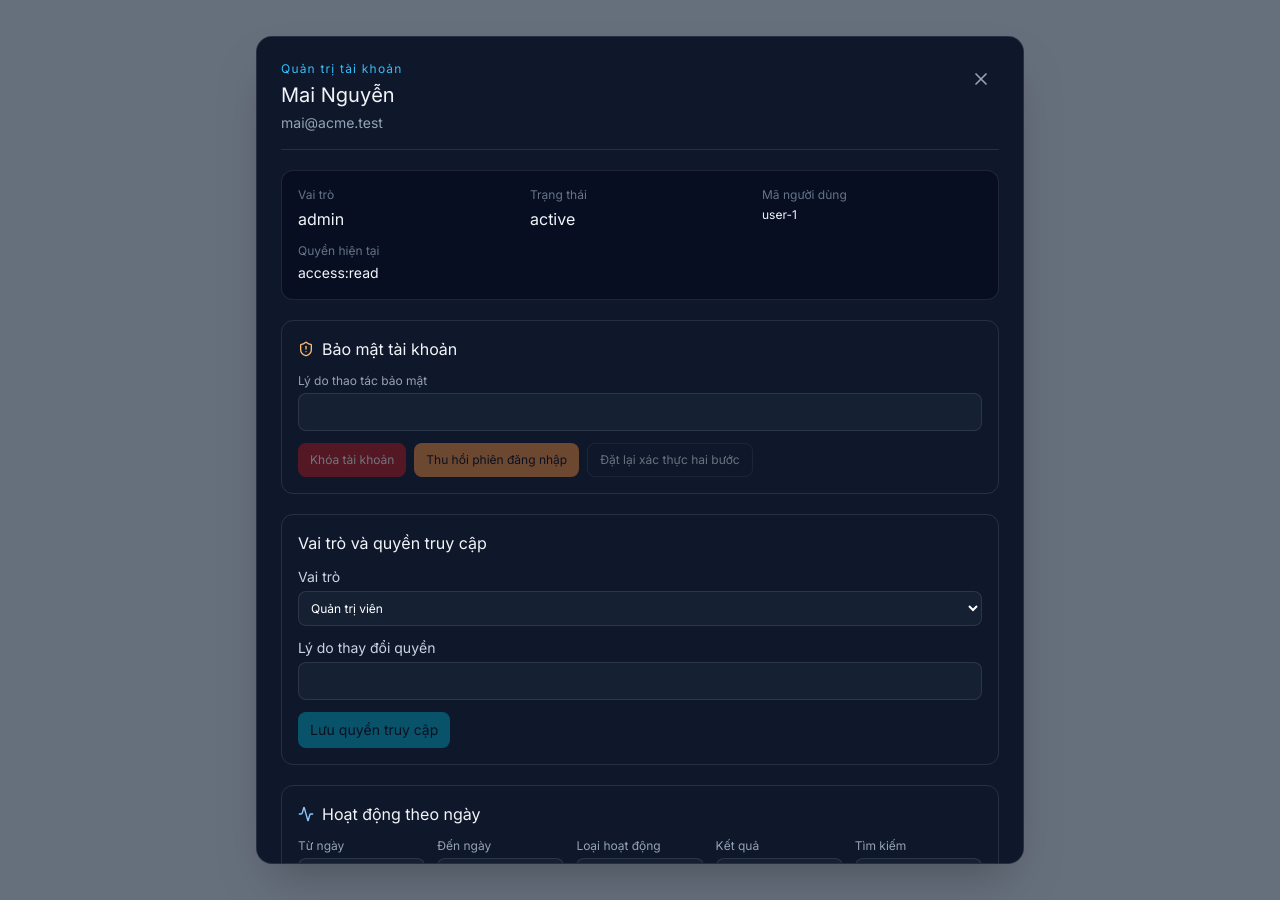
it: UserDetailDialog › locks the account with a reason and refreshes details
Expected: the heading "Mai Nguyễn" is shown, top-left (281, 81), bottom-right (402, 109)
Type "Xử lý sự cố" into the field labelled "Lý do thao tác bảo mật" at (640, 412), box top-left (298, 393), bottom-right (982, 431)
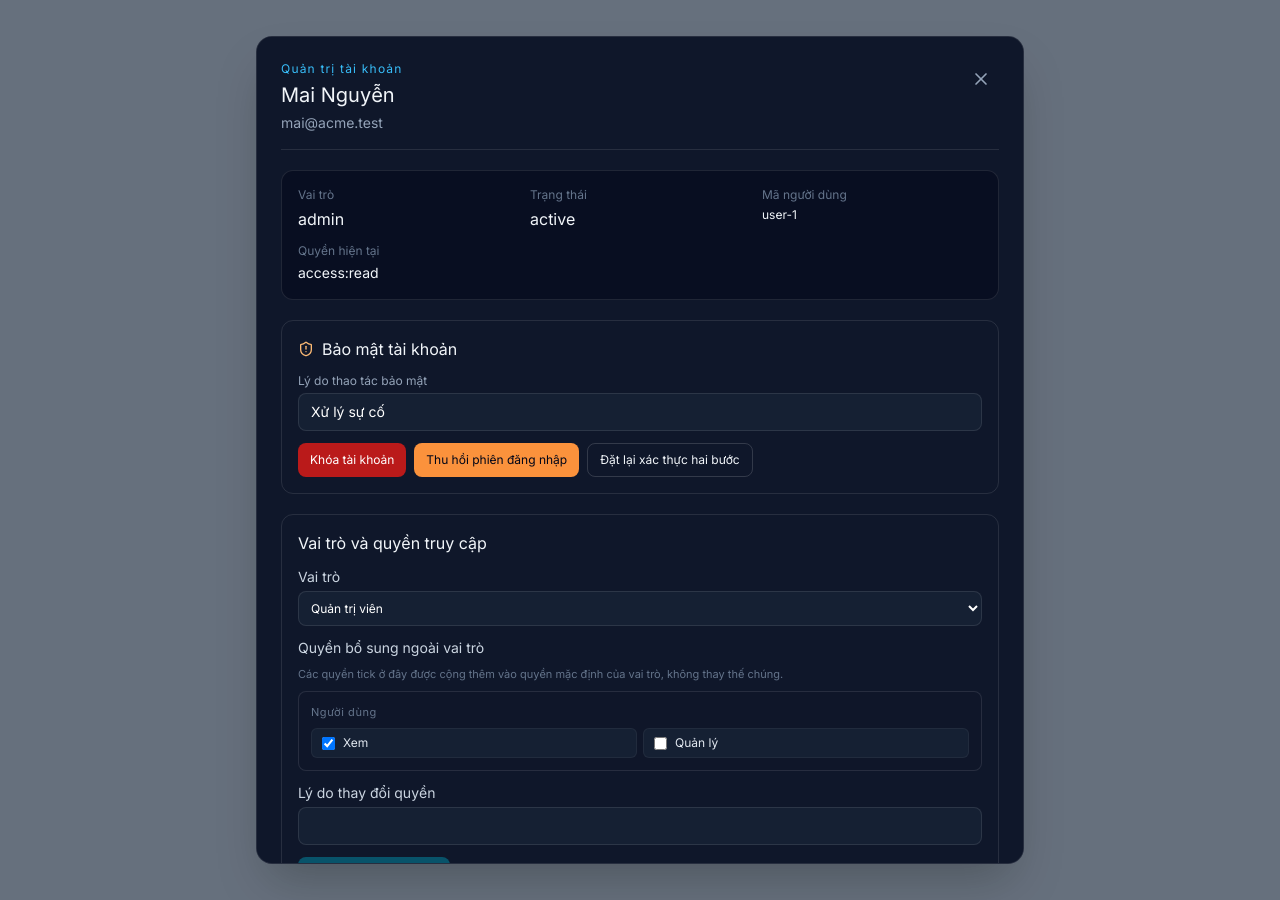
Click the button "Khóa tài khoản" at (352, 460), box top-left (298, 443), bottom-right (406, 477)
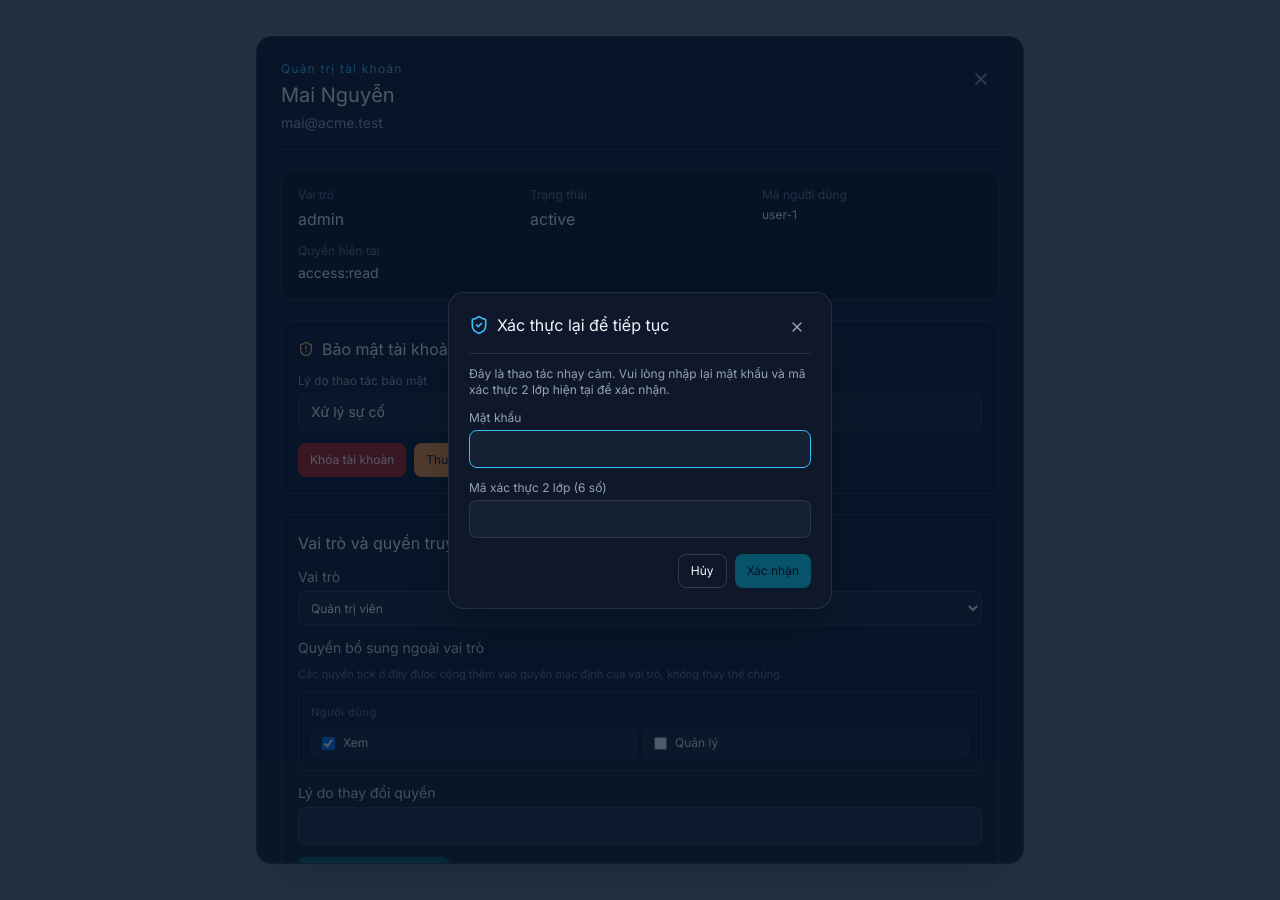
Type "S3cret!" into the password field named "Mật khẩu xác thực lại" at (640, 448), box top-left (469, 430), bottom-right (811, 468)
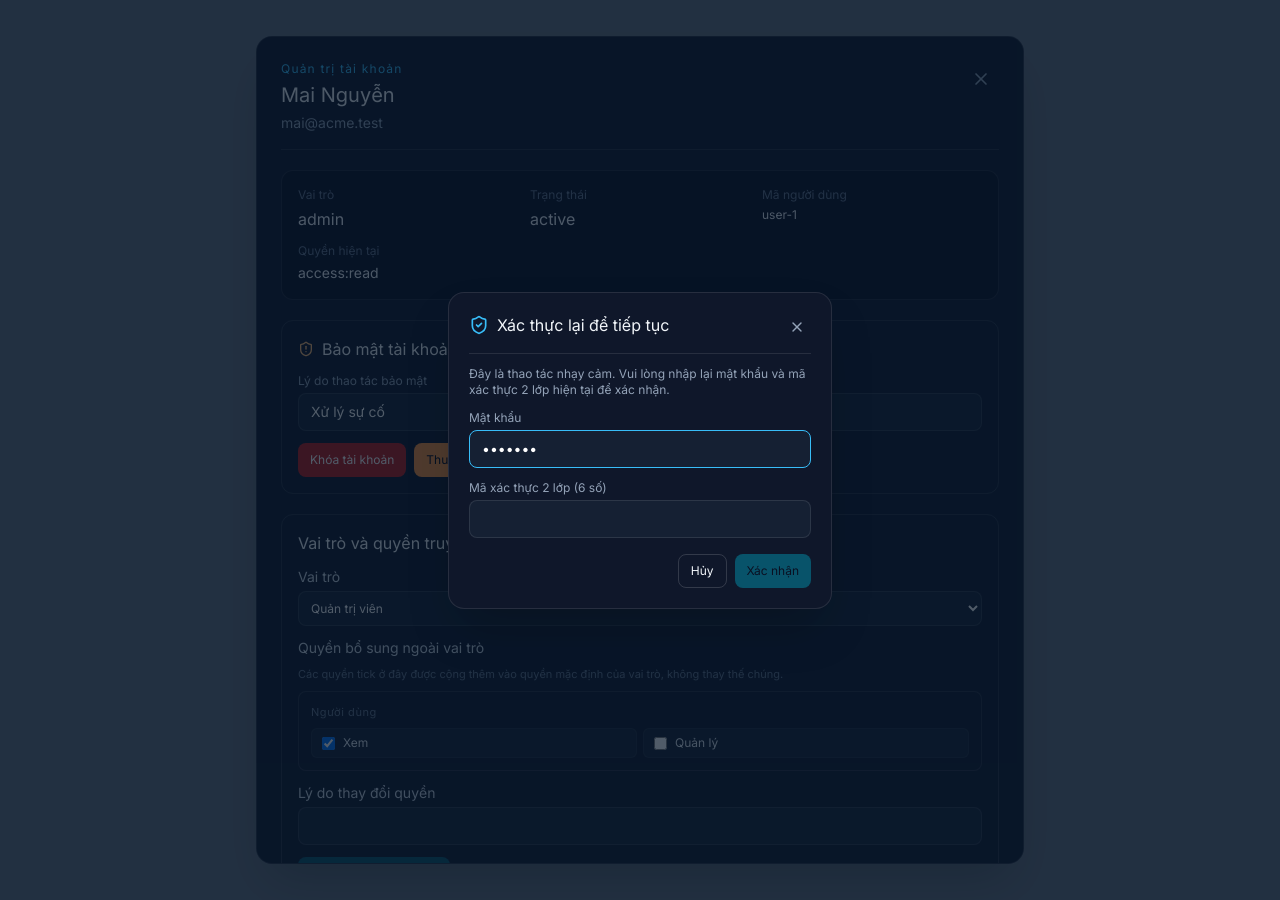
Type "123456" into the field labelled "Mã xác thực 2 lớp" at (640, 518), box top-left (469, 500), bottom-right (811, 538)
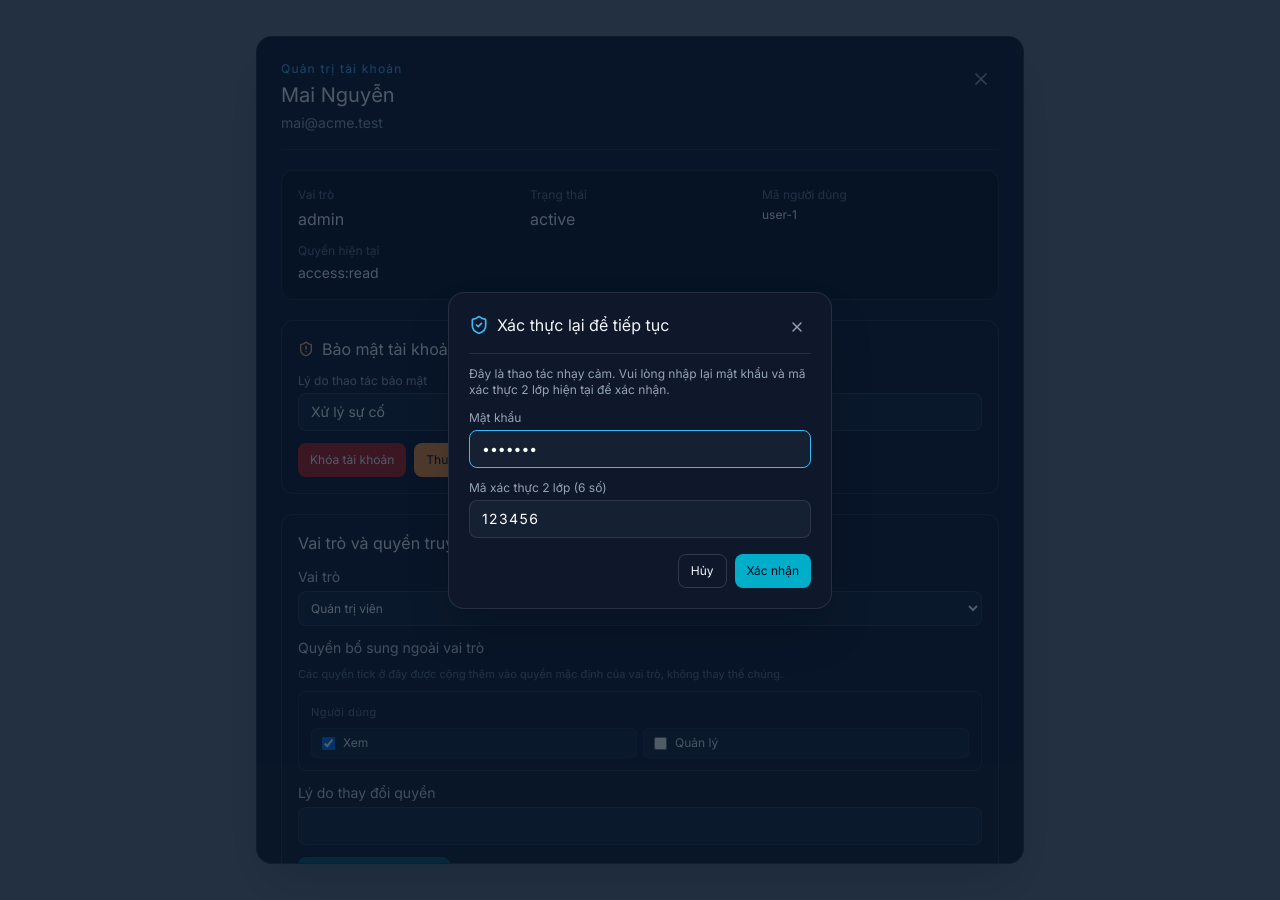
Click the button "Xác nhận" at (773, 570), box top-left (734, 554), bottom-right (811, 588)
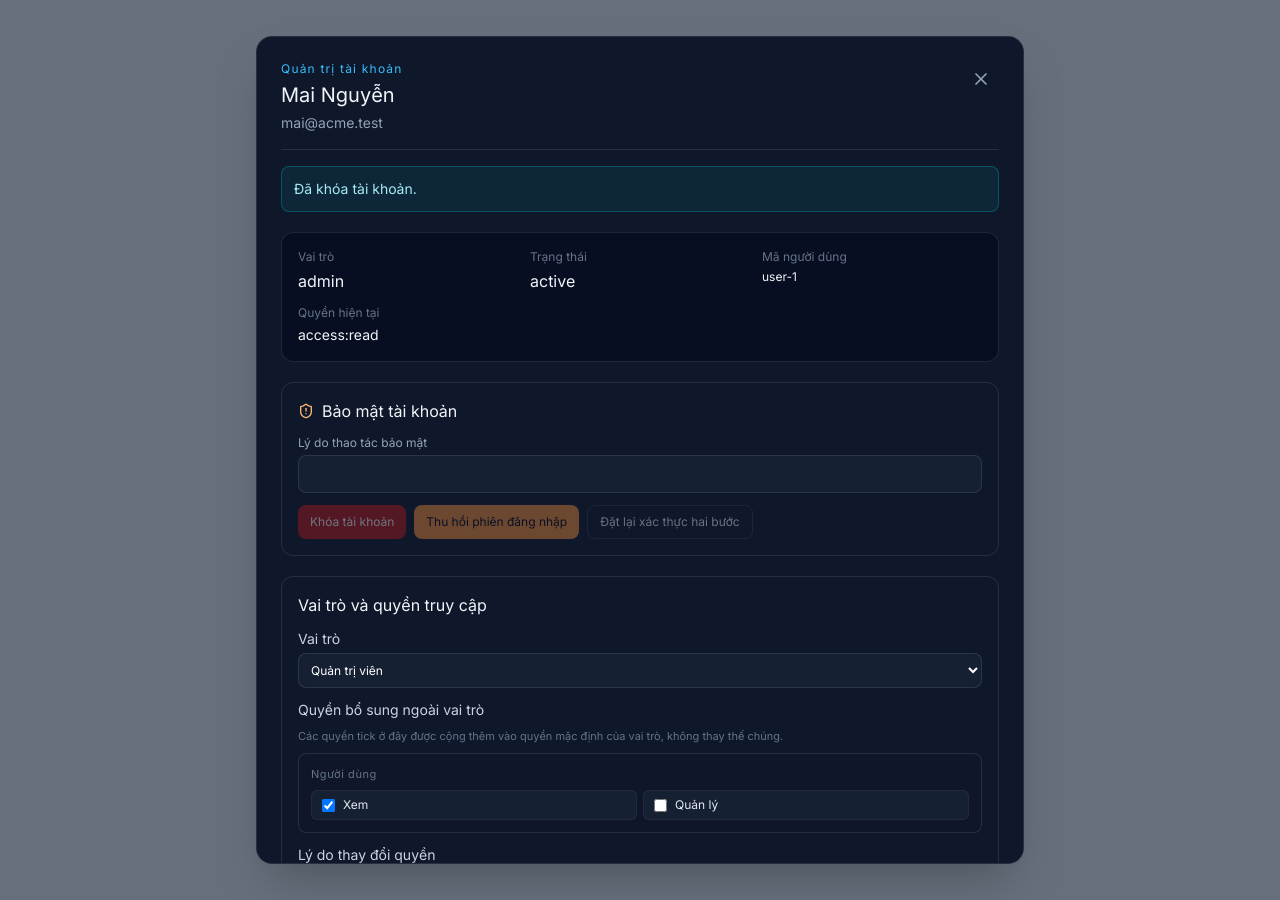
Expected: the text "Đã khóa tài khoản." is shown, top-left (281, 166), bottom-right (999, 212)
